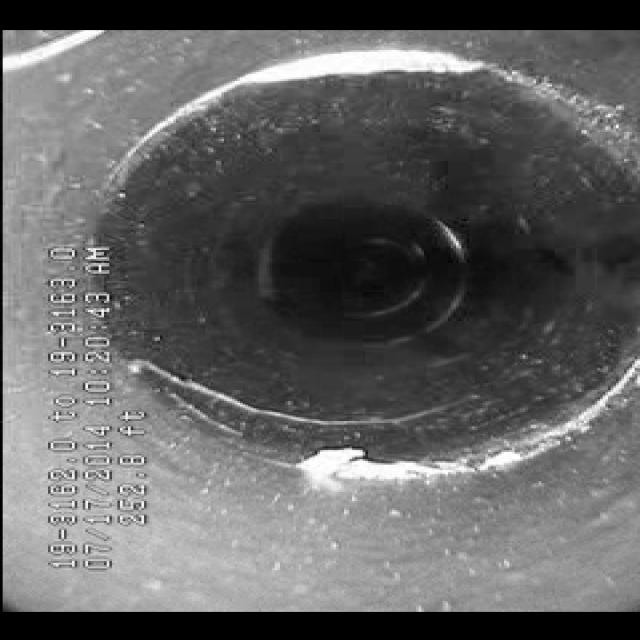Crack: (176, 367, 422, 444)
